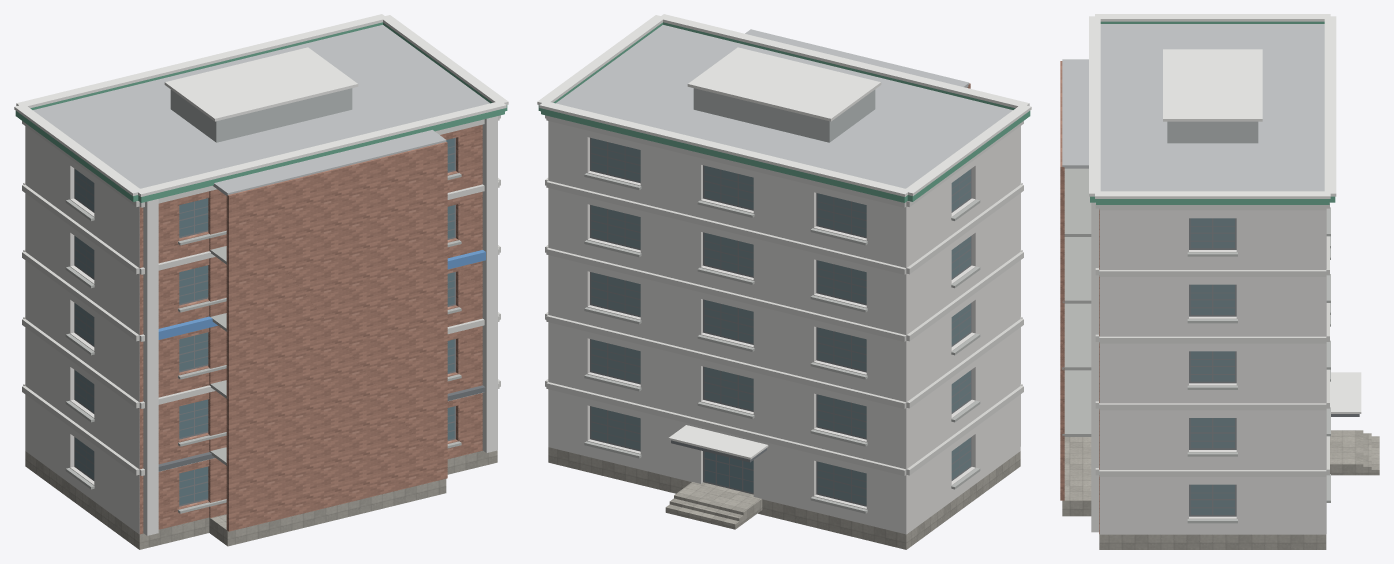
3 renders of one model, left to right at view 1: azimuth 30°, elevation 25°; view 2: azimuth 150°, elevation 25°; view 3: azimuth 270°, elevation 25°, orthographic.
Visible parts, largest first — view 1: music-annex__brick, music-annex__panel, music-annex__roof, music-annex__cap, music-annex__stone, music-annex__band, music-annex__glass, music-annex__canopy, music-annex__steel, music-annex__sideglass, music-annex__frame, music-annex__sill (+3 smaller); view 2: music-annex__panel, music-annex__roof, music-annex__sideglass, music-annex__cap, music-annex__band, music-annex__frame, music-annex__stone, music-annex__sill, music-annex__canopy, music-annex__steel, music-annex__stair-front, music-annex__glass (+1 smaller); view 3: music-annex__panel, music-annex__roof, music-annex__cap, music-annex__band, music-annex__slab, music-annex__sideglass, music-annex__stone, music-annex__frame, music-annex__brick, music-annex__canopy, music-annex__steel, music-annex__sill (+2 smaller).
Part boxes in pixels (left/top/right/bottom): music-annex__brick: left=139, top=124, right=482, bottom=534; music-annex__panel: left=25, top=126, right=139, bottom=534; music-annex__roof: left=33, top=25, right=489, bottom=196; music-annex__cap: left=14, top=14, right=508, bottom=535; music-annex__stone: left=25, top=450, right=497, bottom=549; music-annex__band: left=22, top=115, right=500, bottom=475; music-annex__glass: left=179, top=138, right=454, bottom=505; music-annex__canopy: left=15, top=22, right=507, bottom=202; music-annex__steel: left=170, top=88, right=352, bottom=142; music-annex__sideglass: left=75, top=169, right=94, bottom=479; music-annex__frame: left=74, top=137, right=455, bottom=506; music-annex__sill: left=65, top=173, right=461, bottom=513; music-annex__panel: left=548, top=121, right=1020, bottom=534; music-annex__roof: left=556, top=25, right=1012, bottom=188; music-annex__sideglass: left=591, top=138, right=970, bottom=505; music-annex__cap: left=537, top=14, right=1031, bottom=459; music-annex__band: left=545, top=115, right=1023, bottom=475; music-annex__frame: left=590, top=137, right=971, bottom=506; music-annex__stone: left=548, top=447, right=1020, bottom=549; music-annex__sill: left=584, top=173, right=980, bottom=513; music-annex__canopy: left=538, top=22, right=1030, bottom=202; music-annex__steel: left=693, top=88, right=875, bottom=142; music-annex__stair-front: left=665, top=492, right=747, bottom=529; music-annex__glass: left=704, top=451, right=753, bottom=492; music-annex__panel: left=1099, top=209, right=1326, bottom=534; music-annex__roof: left=1062, top=24, right=1324, bottom=191; music-annex__cap: left=1089, top=14, right=1361, bottom=532; music-annex__band: left=1095, top=203, right=1329, bottom=476; music-annex__slab: left=1062, top=168, right=1091, bottom=436; music-annex__sideglass: left=1190, top=218, right=1234, bottom=514; music-annex__stone: left=1062, top=437, right=1326, bottom=549; music-annex__frame: left=1189, top=218, right=1236, bottom=516; music-annex__brick: left=1060, top=61, right=1099, bottom=534; music-annex__canopy: left=1090, top=21, right=1335, bottom=204; music-annex__steel: left=1167, top=121, right=1258, bottom=143; music-annex__sill: left=1187, top=207, right=1330, bottom=523.
Bounding box in the file's own units: 19.94 × 19.33 × 14.77.
Materials: 16 (2 with a texture image).
